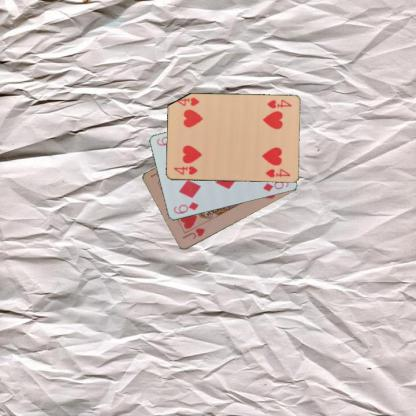4h: (265, 97, 292, 110), (171, 164, 199, 176)
6d: (171, 200, 200, 216)
Jh: (180, 225, 206, 241)
